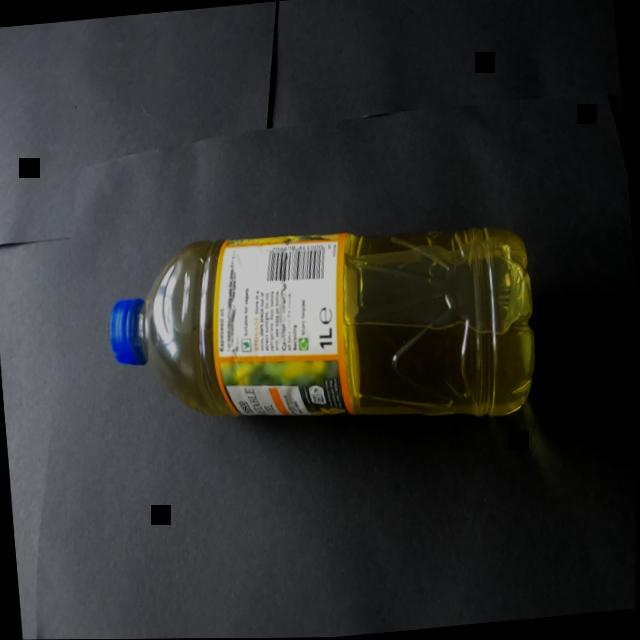Vegetableoil: (94, 186, 575, 490)
